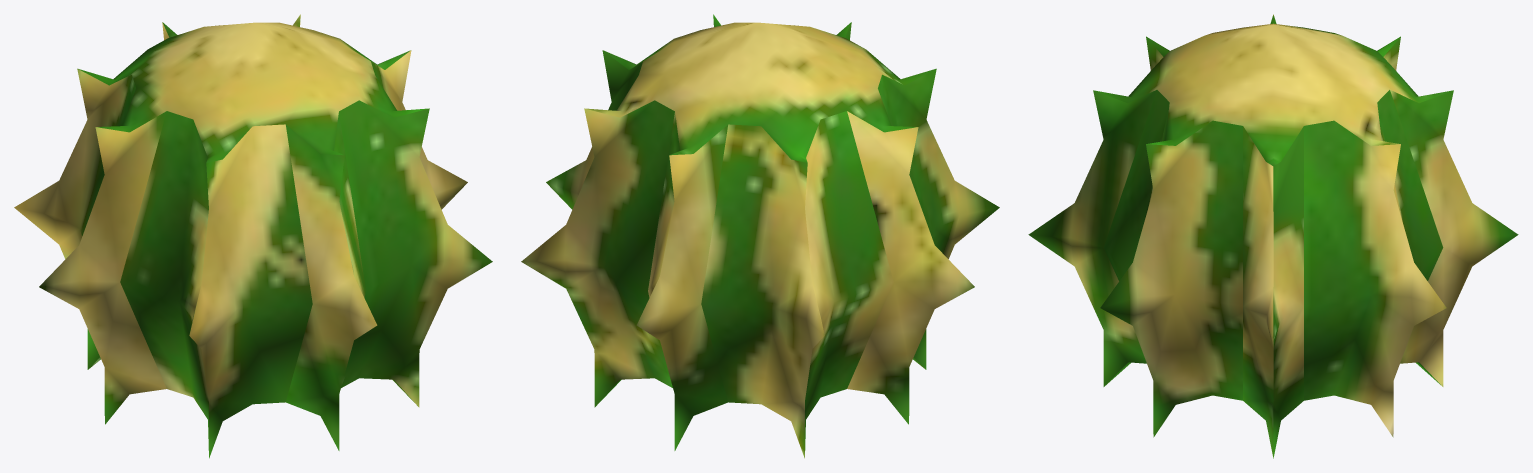
File: Cactus_mini.obj
3 views of the same model, side by side, from view 1: azimuth 30°, elevation 25°; view 2: azimuth 150°, elevation 25°; view 3: azimuth 270°, elevation 25° (orthographic).
Visible parts, largest first — view 1: sphere6; view 2: sphere6; view 3: sphere6.
Part boxes in pixels (box(x1,y1,x2,y2)): sphere6: box(14, 14, 492, 458); sphere6: box(521, 14, 999, 458); sphere6: box(1028, 14, 1518, 458).
Size of the model in its own units: 2.69 by 2.19 by 2.69.
Materials: 1 (1 with a texture image).
